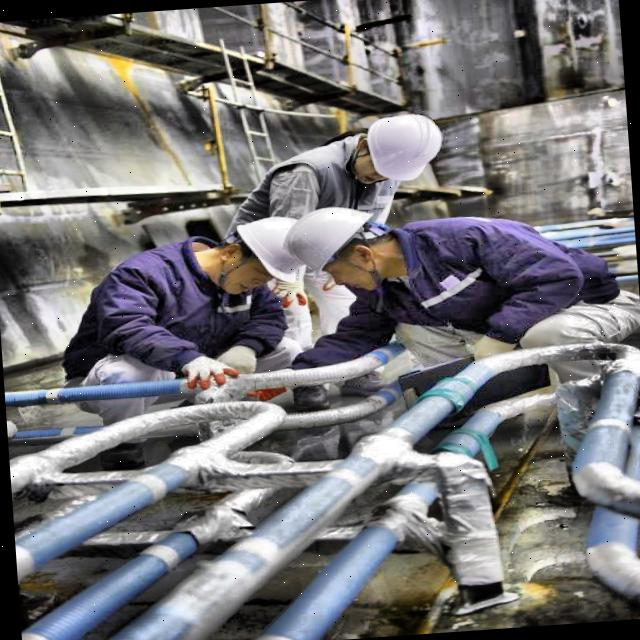helmet: (276, 194, 406, 306), (205, 206, 320, 304), (347, 108, 456, 194)
